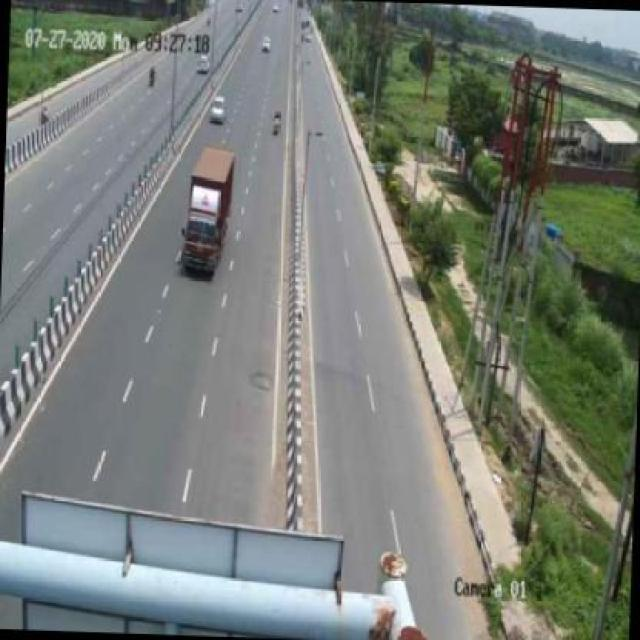car: (208, 90, 232, 128)
